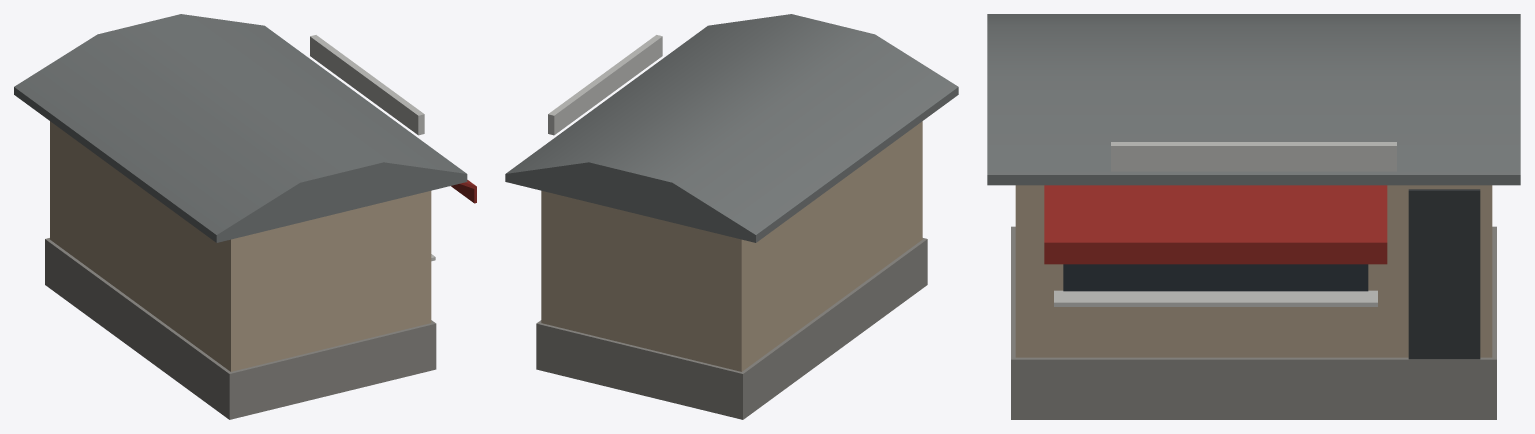
Rendered from SM_Prop_cafe_building_4_LOD2.glb.
3 renders of one model, left to right at view 1: azimuth 30°, elevation 25°; view 2: azimuth 150°, elevation 25°; view 3: azimuth 270°, elevation 25°, orthographic. The views are drawn at different scales.
Parts seen in each view (by area): view 1: SM_Prop_cafe_building_4_LOD2; view 2: SM_Prop_cafe_building_4_LOD2; view 3: SM_Prop_cafe_building_4_LOD2.
Part boxes in pixels (box(x1,y1,x2,y2)): SM_Prop_cafe_building_4_LOD2: box(14, 14, 476, 419); SM_Prop_cafe_building_4_LOD2: box(505, 14, 958, 419); SM_Prop_cafe_building_4_LOD2: box(987, 14, 1520, 419).
Size of the model in its own units: 4.5 by 3.49 by 5.6.
